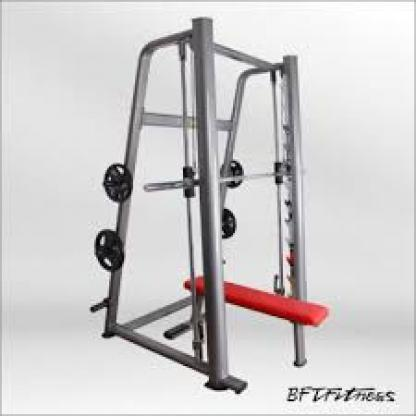smith machine: (90, 16, 328, 382)
